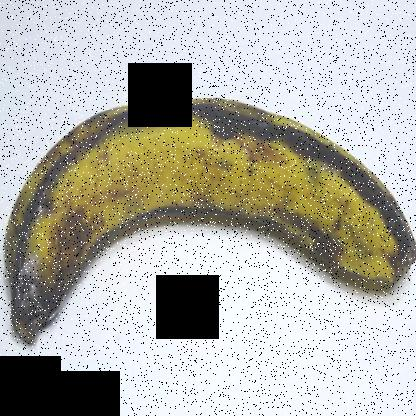overripe: (1, 67, 415, 391)
rotten: (1, 188, 89, 382)
